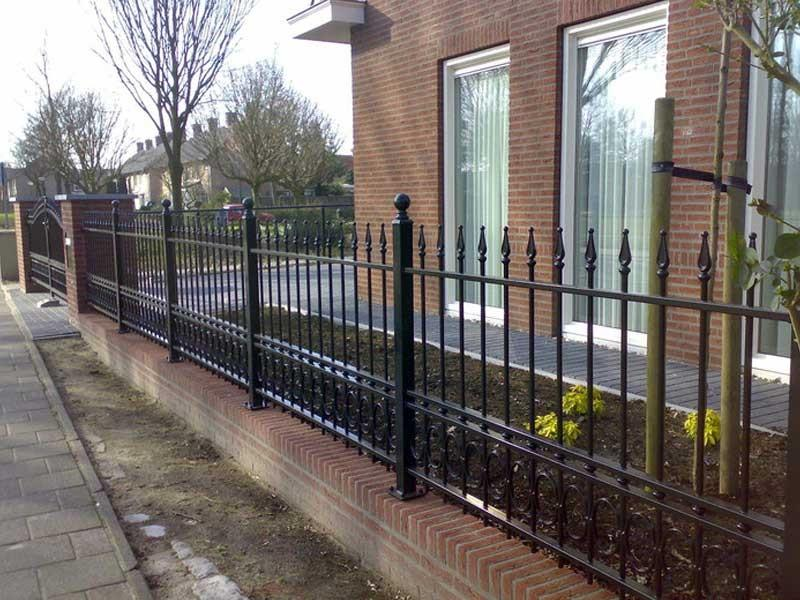obstacle: (0, 55, 800, 503)
